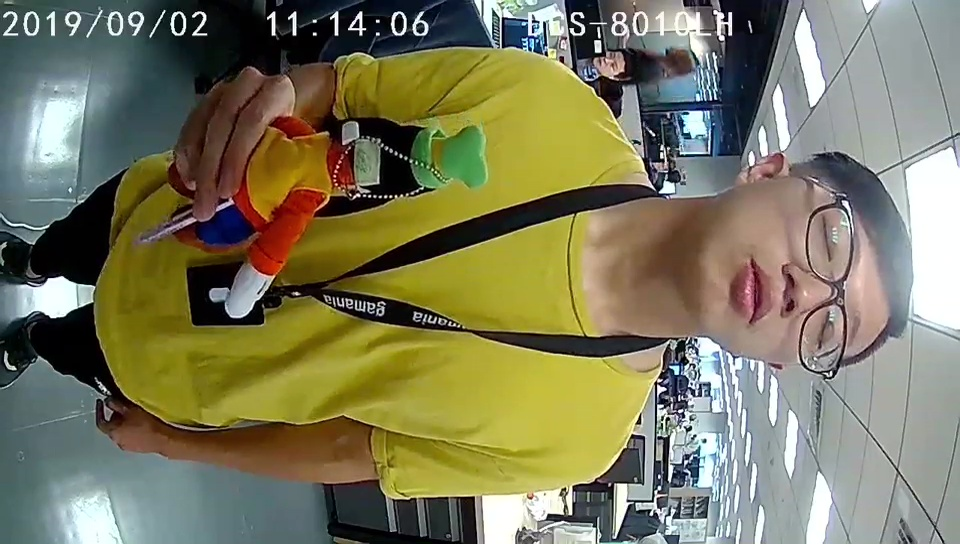goofy: (224, 124, 486, 319)
